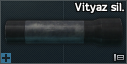PP-19-01 Vityaz-SN 9x19 sound suppressor: (0, 0, 127, 64)
